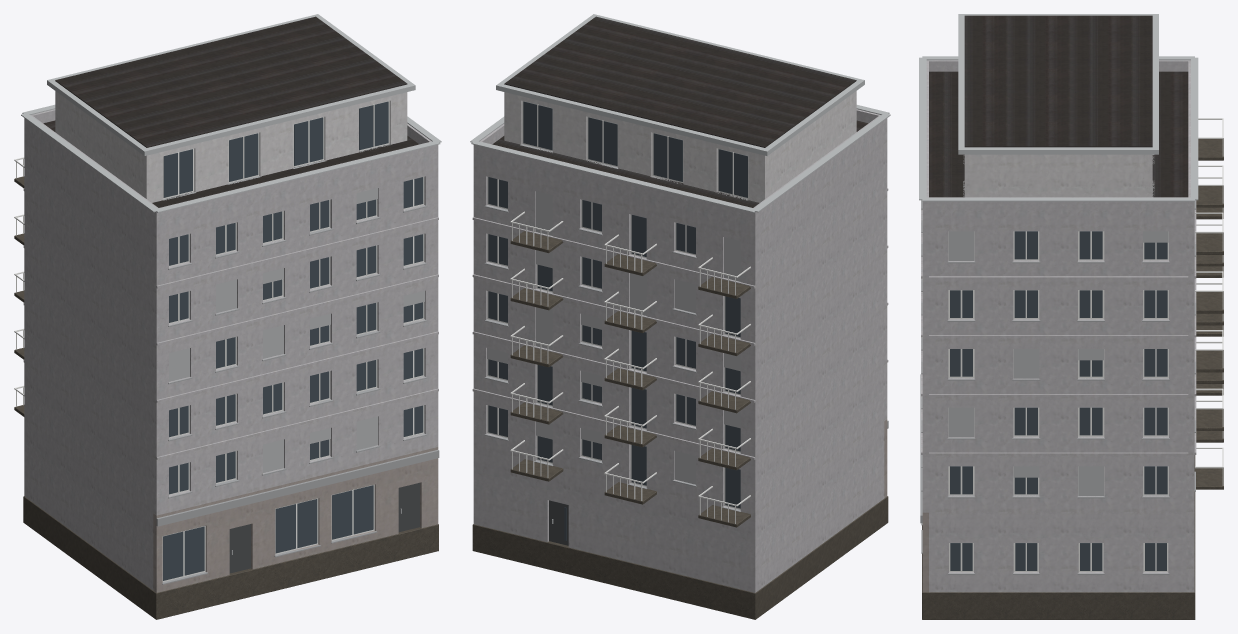
Rendered from block-row-6-end-e.glb.
3 views of the same model, side by side, from view 1: azimuth 30°, elevation 25°; view 2: azimuth 150°, elevation 25°; view 3: azimuth 270°, elevation 25° (orthographic). The views are drawn at different scales.
Parts seen in each view (by area): view 1: block-row-6-end-e-plaster0; view 2: block-row-6-end-e-plaster0; view 3: block-row-6-end-e-plaster0.
Part boxes in pixels (left/top/right/bottom): block-row-6-end-e-plaster0: left=14, top=14, right=441, bottom=619; block-row-6-end-e-plaster0: left=470, top=14, right=890, bottom=619; block-row-6-end-e-plaster0: left=919, top=14, right=1223, bottom=619.
Size of the model in its own units: 16.36 by 24.7 by 14.58.
Materials: 11 (5 with a texture image).
